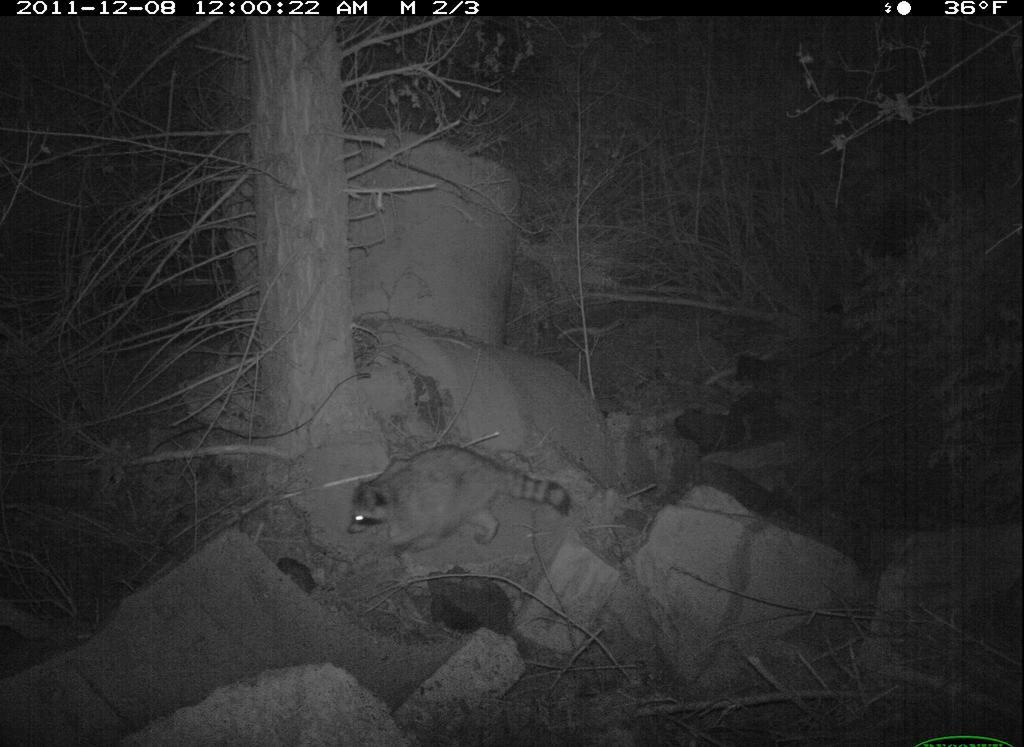raccoon: (349, 440, 578, 559)
